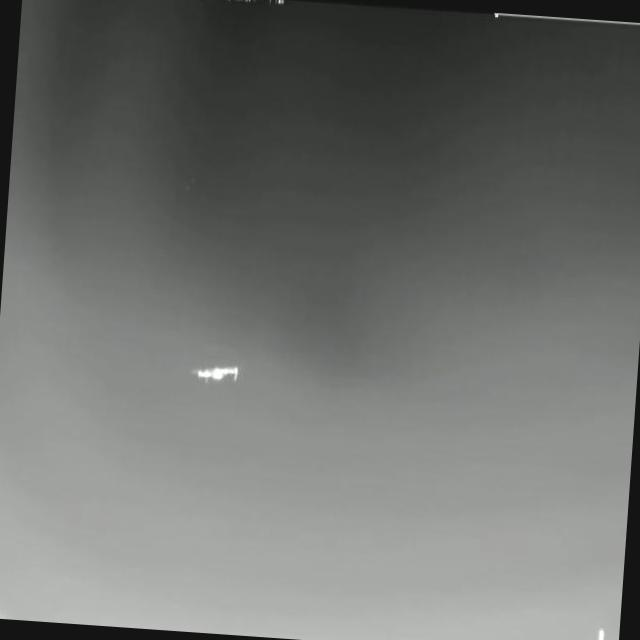DRONE: (182, 354, 248, 394)
